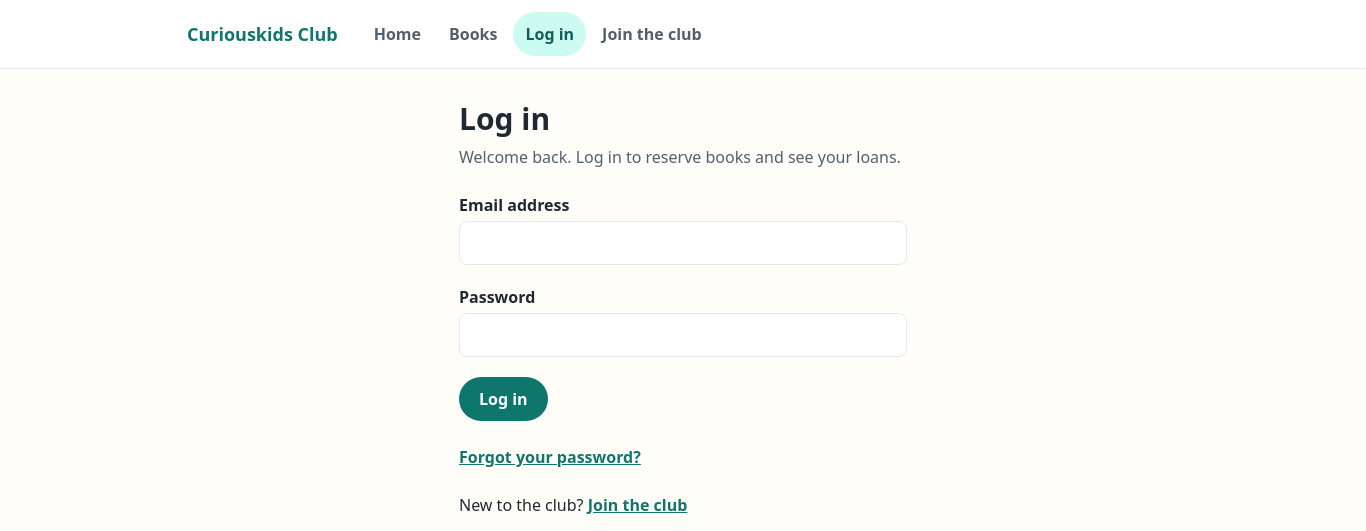
Test case: Login page › FR-ID-03: logs in with the CSRF token and returns to the page that asked
This screenshot has width=1366, height=531.
In the field labelled "Email address": (683, 243) [459,221,907,265], type " sam@example.com "
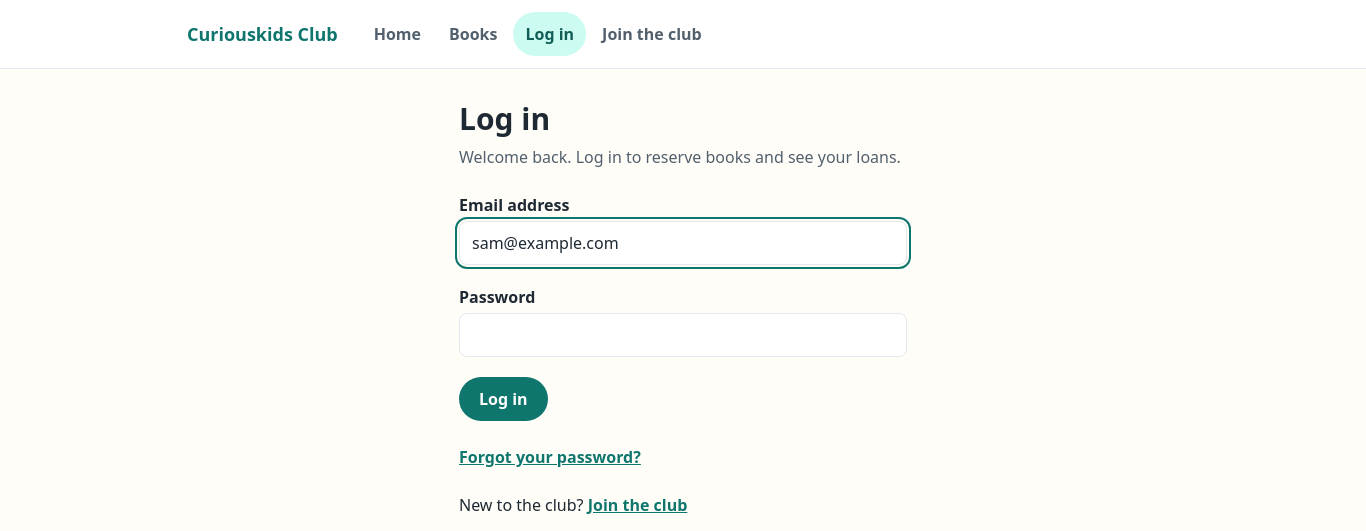
In the password field labelled "Password": (683, 335) [459,313,907,357], type "purple giraffes read slowly"
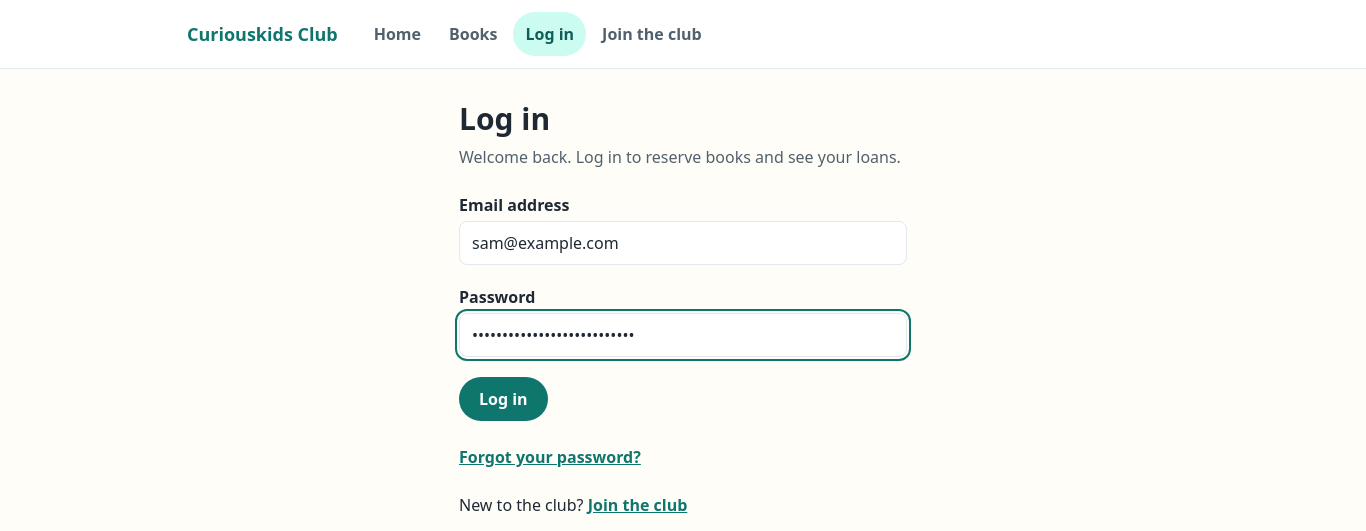
Click the button "Log in": (503, 399) [459,377,548,421]
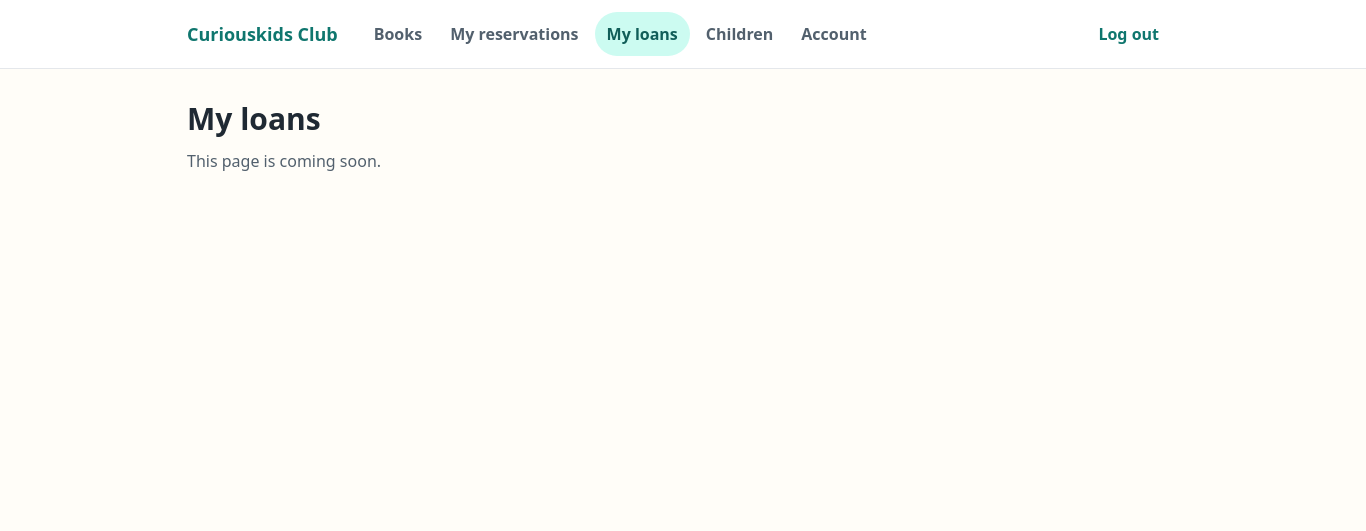
Expected: the heading "My loans" is shown, [187,98,321,139]
Expected: the button "Log out" is shown, [1078,12,1179,56]
